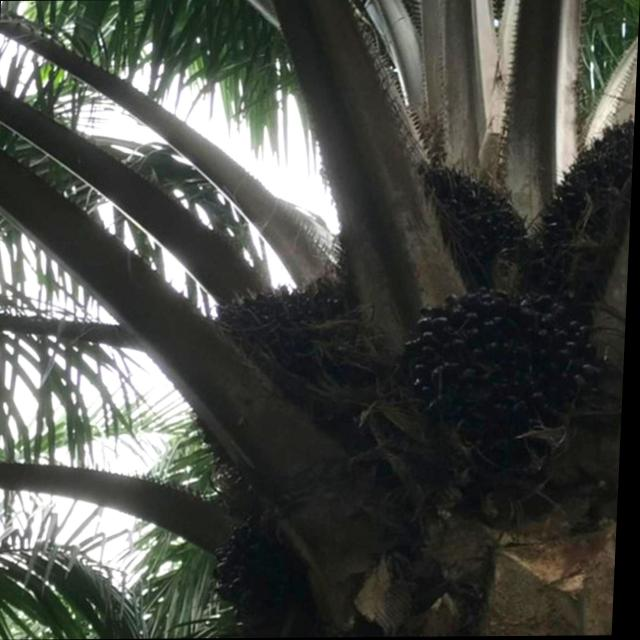almost: (392, 274, 615, 492), (191, 272, 375, 450)
